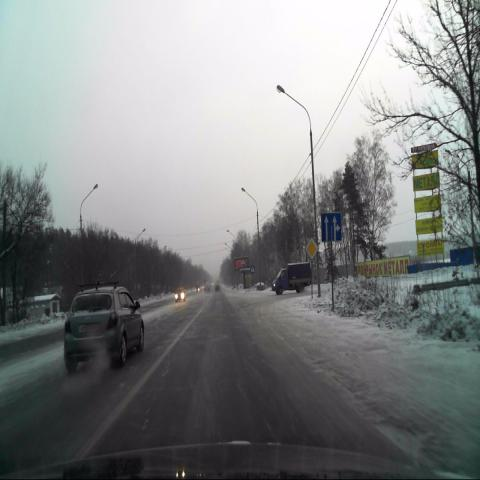5_15_2_2: (321, 213, 342, 241)
